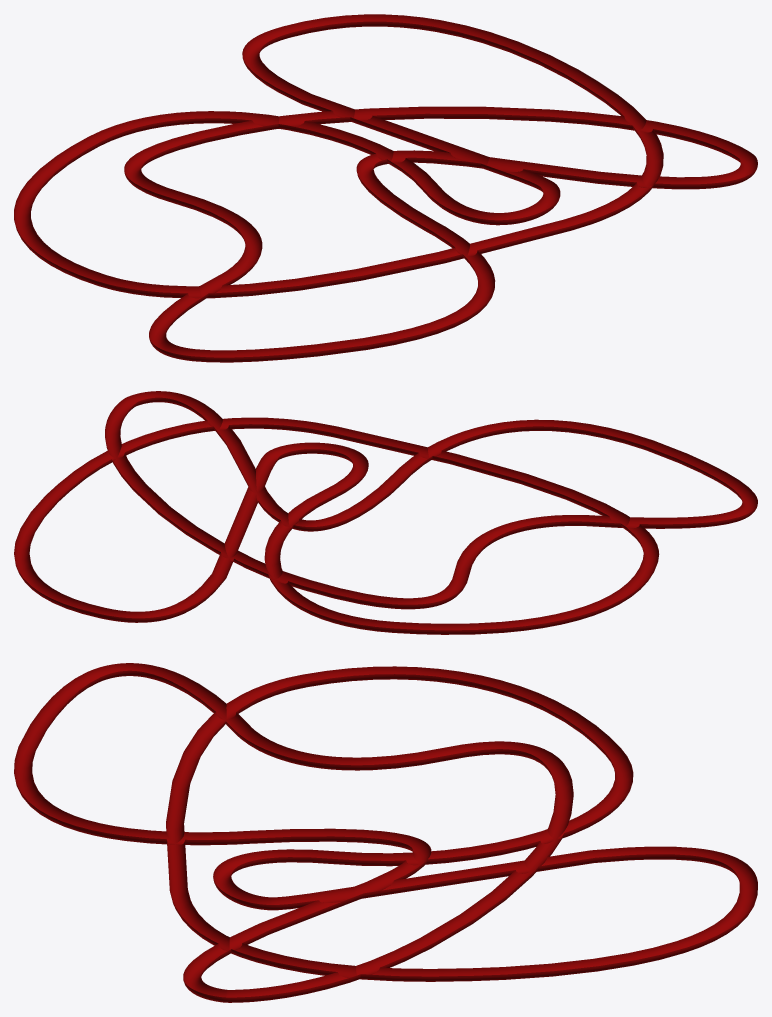
Rendered from Veins.fbx.
3 views of the same model, one above another, from view 1: azimuth 30°, elevation 25°; view 2: azimuth 150°, elevation 25°; view 3: azimuth 270°, elevation 25° (orthographic). The views are drawn at different scales.
Parts seen in each view (by area): view 1: Sweep_1__Sweep_2__2, Sweep__Sweep_1__2; view 2: Sweep_1__Sweep_2__2, Sweep__Sweep_1__2; view 3: Sweep_1__Sweep_2__2, Sweep__Sweep_1__2.
Boxes of the visible parts, box(x1,y1,x2,y2) form: Sweep_1__Sweep_2__2: box(14, 14, 663, 298); Sweep__Sweep_1__2: box(124, 106, 757, 362); Sweep_1__Sweep_2__2: box(14, 417, 659, 634); Sweep__Sweep_1__2: box(105, 391, 757, 609); Sweep_1__Sweep_2__2: box(166, 666, 757, 981); Sweep__Sweep_1__2: box(14, 663, 573, 1002).
Bounding box in the file's own units: 8704 × 100 × 8183.
